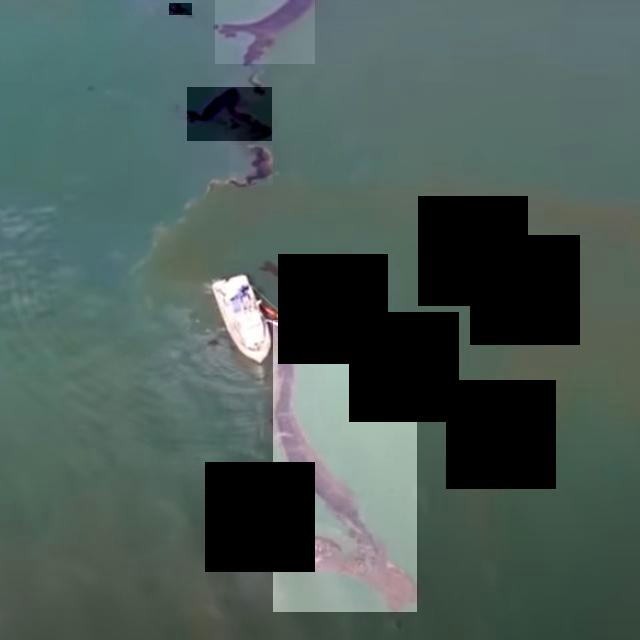oil spill: (273, 320, 417, 612), (215, 0, 315, 64), (187, 87, 272, 141), (229, 145, 273, 186), (169, 4, 192, 15)
